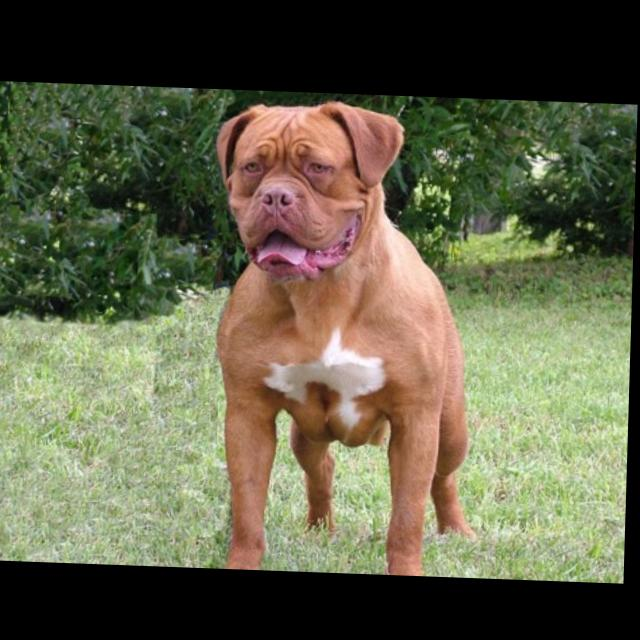dogue_de_bordeaux: (205, 93, 492, 574)
